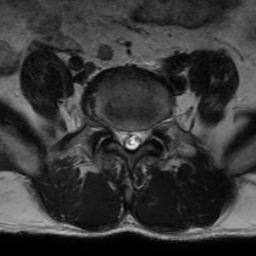CCS_stenosis: (125, 122, 135, 156)
LFS_normal: (146, 119, 156, 146)
LLS_normal: (135, 122, 144, 151)
RFS_stenosis: (105, 117, 116, 141)
RLS_normal: (116, 120, 125, 154)
